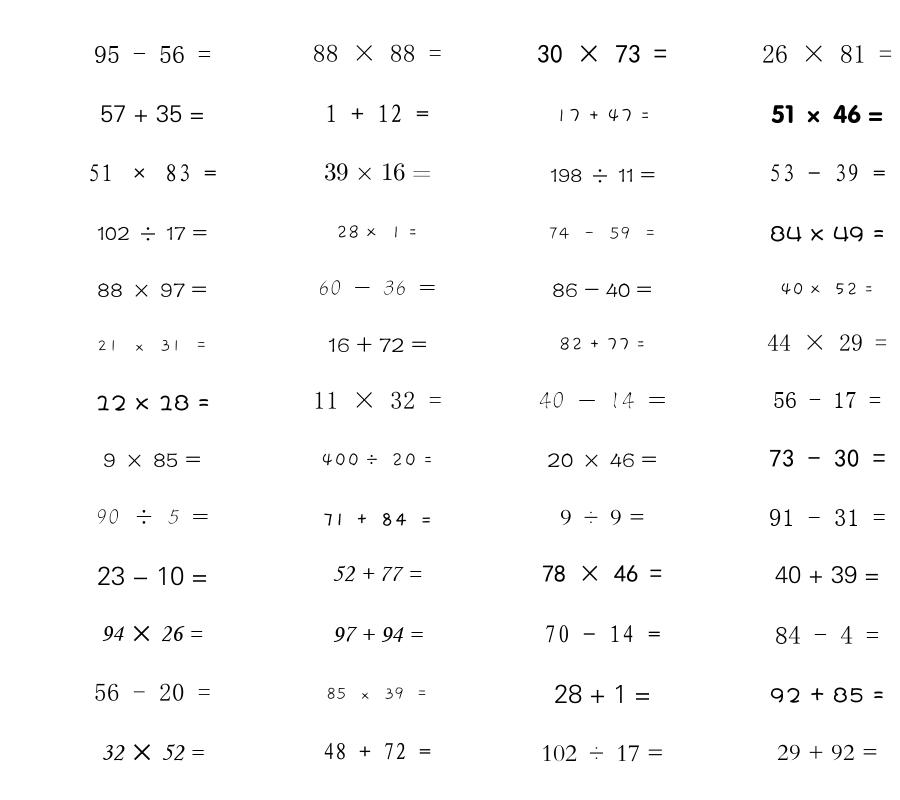MQ: (537, 44, 667, 64), (762, 44, 892, 63), (313, 44, 442, 62), (88, 164, 217, 182), (313, 391, 442, 409), (539, 391, 666, 409), (771, 104, 883, 124), (769, 449, 886, 468), (97, 566, 208, 586), (769, 164, 886, 182), (544, 625, 661, 643), (94, 683, 211, 701), (541, 745, 664, 762), (767, 334, 887, 351), (542, 565, 662, 582), (94, 46, 211, 63), (769, 509, 886, 526), (325, 104, 429, 123), (770, 225, 885, 242), (95, 394, 210, 411), (323, 742, 431, 760), (554, 684, 651, 704), (324, 163, 431, 181), (100, 105, 205, 123), (775, 566, 880, 584), (775, 626, 879, 644), (770, 687, 884, 703), (318, 280, 436, 295), (101, 744, 204, 761), (101, 625, 203, 642), (773, 392, 881, 408), (777, 744, 878, 761), (96, 509, 209, 524), (328, 336, 427, 353), (97, 226, 207, 241), (547, 453, 657, 468), (550, 168, 655, 183), (321, 453, 433, 467), (97, 283, 207, 297), (332, 565, 422, 582), (548, 226, 657, 240), (552, 283, 652, 298), (332, 626, 423, 642), (560, 509, 645, 526), (322, 513, 433, 526), (555, 108, 650, 123), (103, 453, 201, 467), (97, 340, 208, 352), (326, 687, 428, 700), (780, 282, 874, 296), (559, 337, 646, 351), (336, 225, 418, 239)
